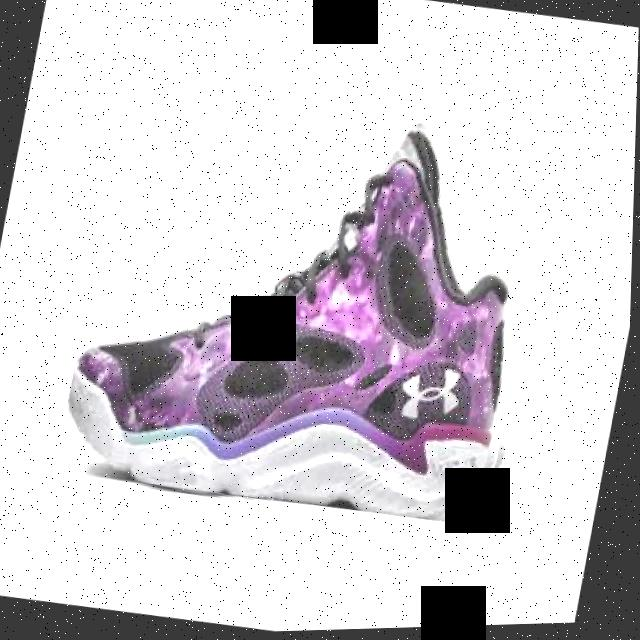shoe: (56, 71, 569, 542)
